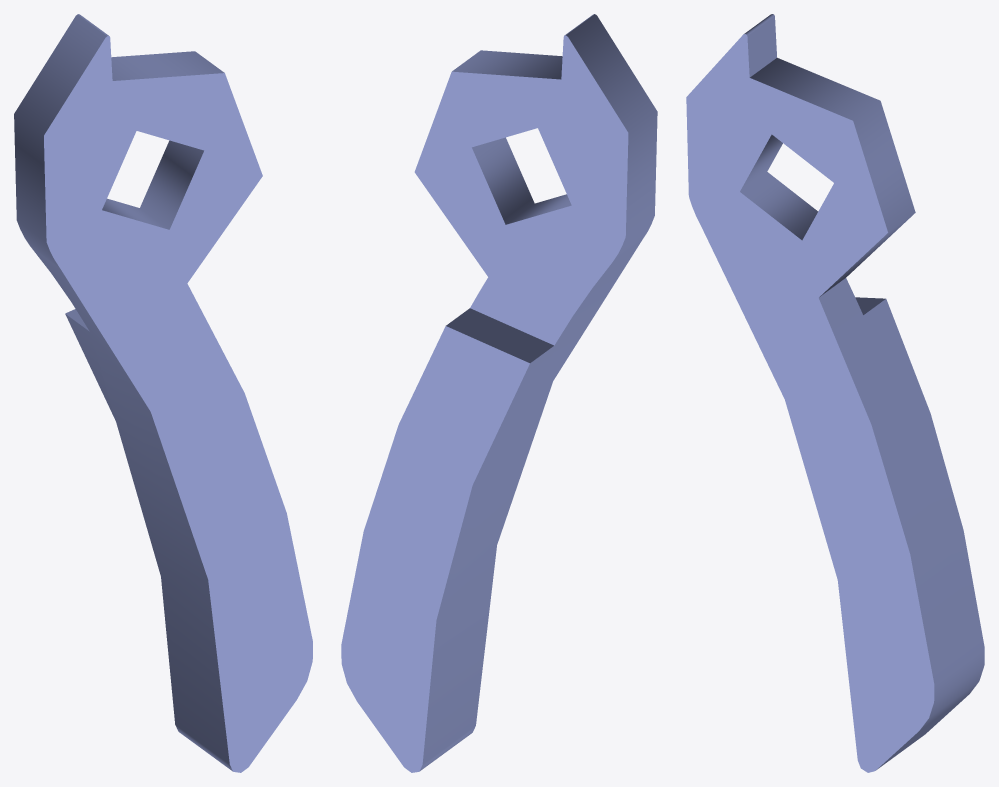
Rendered from Copie de Copie de Cliquet^Copie de Roue_Barillet_Mvt_Horloge Comtoise Verge - Sonnerie.obj.
3 views of the same model, side by side, from view 1: azimuth 30°, elevation 25°; view 2: azimuth 150°, elevation 25°; view 3: azimuth 330°, elevation 25° (orthographic). The views are drawn at different scales.
Visible parts, largest first — view 1: Face_1, Face_5, Face_3, Face_2, Face_7; view 2: Face_12, Face_11, Face_5, Face_3, Face_2, Face_15, Face_7; view 3: Face_1, Face_6, Face_7, Face_2, Face_14, Face_8.
Boxes of the visible parts, x1,y1,x2,y2 form: Face_1: (44, 36, 312, 772); Face_5: (30, 246, 229, 764); Face_3: (14, 16, 105, 241); Face_2: (102, 140, 203, 229); Face_7: (111, 51, 224, 80); Face_12: (341, 326, 529, 772); Face_11: (414, 35, 628, 345); Face_5: (422, 241, 641, 764); Face_3: (568, 16, 657, 236); Face_2: (472, 137, 571, 224); Face_15: (446, 308, 553, 362); Face_7: (452, 50, 562, 79); Face_1: (686, 34, 934, 772); Face_6: (819, 278, 984, 683); Face_7: (750, 57, 915, 296); Face_2: (740, 134, 818, 240); Face_14: (920, 647, 984, 729); Face_8: (747, 16, 776, 77).
Size of the model in its own units: 0.00625 by 0.0171 by 0.0022.
